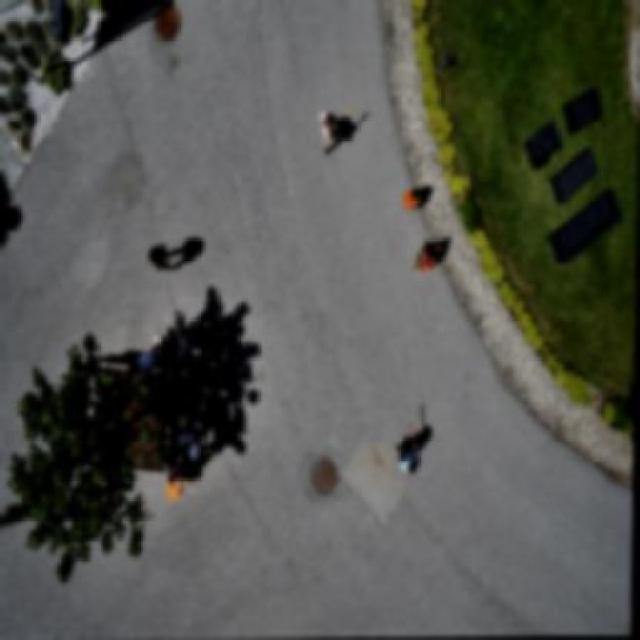Person: (406, 236, 454, 278), (308, 111, 347, 155), (123, 336, 163, 376), (388, 436, 426, 478), (141, 236, 176, 276), (162, 328, 201, 358), (399, 184, 426, 218)
